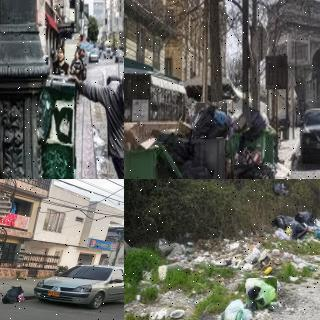Garbage: (191, 102, 228, 138), (245, 277, 278, 310), (272, 213, 306, 237), (232, 164, 268, 179), (2, 286, 24, 304), (294, 210, 316, 226), (0, 293, 9, 302)
